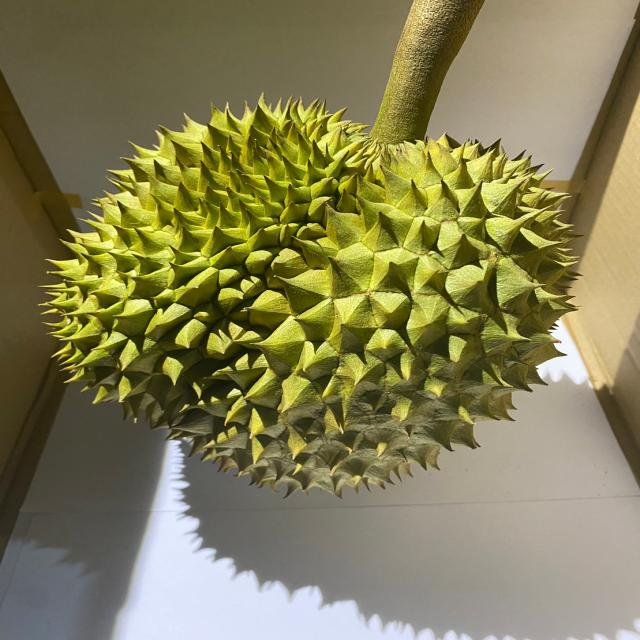immature: (35, 94, 588, 500)
